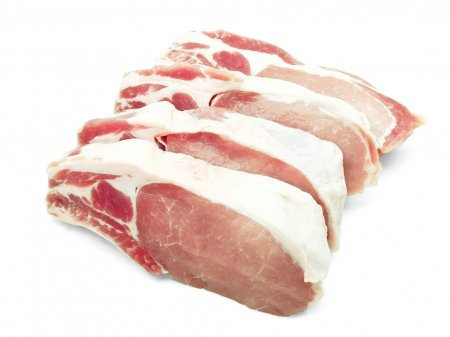bacon: (52, 19, 390, 311)
